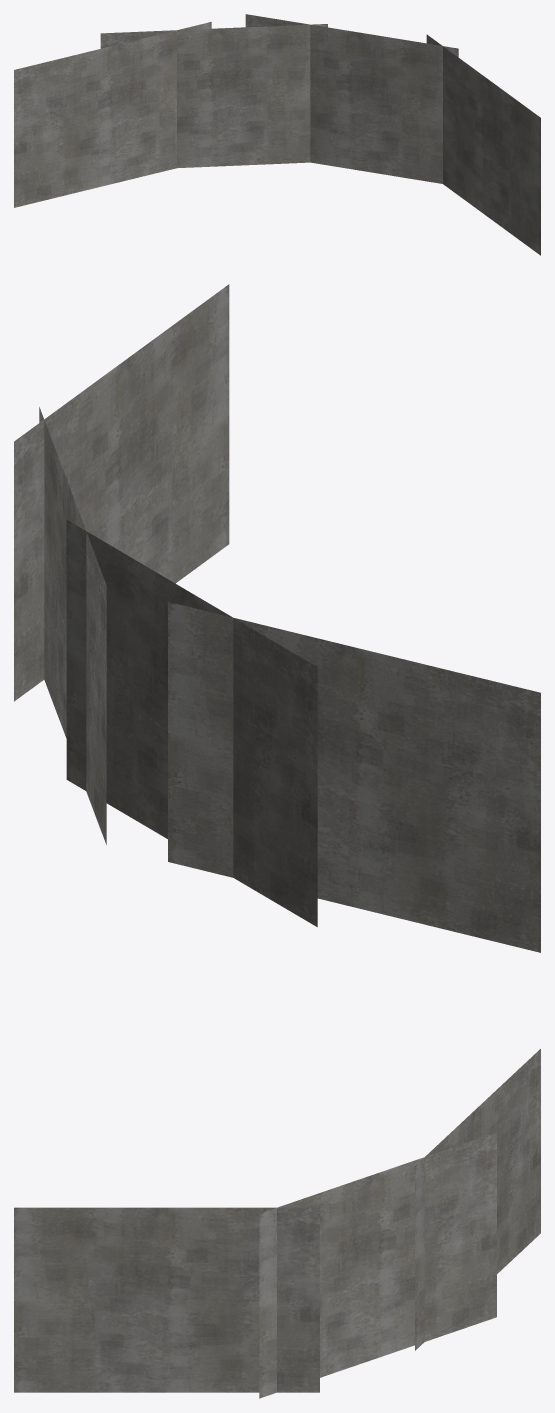
The model's file is rounded wall.glb.
3 views of the same model, one above another, from view 1: azimuth 30°, elevation 25°; view 2: azimuth 150°, elevation 25°; view 3: azimuth 270°, elevation 25° (orthographic). The views are drawn at different scales.
Visible parts, largest first — view 1: Plane.004; view 2: Plane.004; view 3: Plane.004.
Boxes of the visible parts, left/top/right/bottom form: Plane.004: left=14, top=14, right=540, bottom=255; Plane.004: left=14, top=284, right=540, bottom=952; Plane.004: left=14, top=1049, right=540, bottom=1398.
Size of the model in its own units: 21.57 by 8 by 20.66.
1 material, 1 textured.
